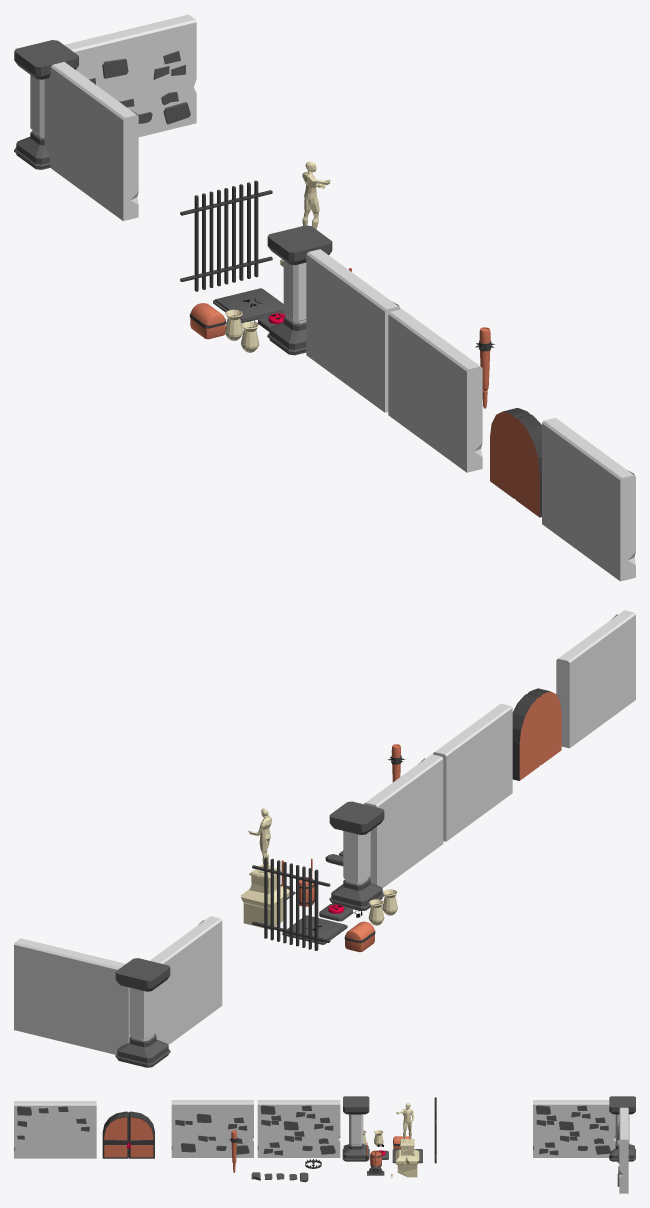
The model's file is props_dorc.fbx.
The picture shows the model from 3 angles, top to bottom: view 1: azimuth 30°, elevation 25°; view 2: azimuth 150°, elevation 25°; view 3: azimuth 270°, elevation 25°; orthographic projection. The views are drawn at different scales.
Visible parts, largest first — view 1: wall2, arc_wall, corner_wall_2, corner_wall, wall1, double_door, bars, pillar, corner_pillar, pressurePlate, statue; view 2: corner_wall, arc_wall, wall1, wall2, corner_wall_2, corner_pillar, pillar, double_door, bars, statue_holder, pressurePlate; view 3: wall1, arc_wall, corner_wall_2, wall2, double_door, pillar, corner_wall, corner_pillar, statue_holder, statue, BONK, bars (+2 smaller).
Part boxes in pixels (x1,y1,x2,y2): wall2: [388, 309, 482, 472]; arc_wall: [542, 418, 635, 581]; corner_wall_2: [44, 62, 138, 220]; corner_wall: [64, 14, 196, 137]; wall1: [306, 249, 400, 412]; double_door: [490, 408, 541, 517]; bars: [180, 180, 272, 291]; pillar: [267, 225, 332, 355]; corner_pillar: [14, 40, 78, 169]; pressurePlate: [213, 288, 283, 323]; statue: [302, 161, 330, 229]; corner_wall: [14, 938, 130, 1054]; arc_wall: [556, 610, 635, 748]; wall1: [364, 754, 443, 888]; wall2: [433, 703, 512, 841]; corner_wall_2: [149, 916, 222, 1044]; corner_pillar: [115, 958, 170, 1067]; pillar: [329, 801, 384, 910]; double_door: [512, 688, 561, 780]; bars: [252, 857, 330, 950]; statue_holder: [241, 864, 289, 929]; pressurePlate: [282, 915, 347, 944]; wall1: [257, 1100, 340, 1157]; arc_wall: [14, 1101, 96, 1158]; corner_wall_2: [533, 1100, 615, 1157]; wall2: [171, 1100, 253, 1157]; double_door: [102, 1111, 154, 1158]; pillar: [342, 1096, 369, 1161]; corner_wall: [617, 1107, 628, 1193]; corner_pillar: [609, 1096, 635, 1161]; statue_holder: [395, 1139, 419, 1177]; statue: [396, 1103, 414, 1143]; BONK: [229, 1130, 238, 1172]; bars: [434, 1097, 436, 1163].
Size of the model in its own units: 818 by 534 by 4069.
